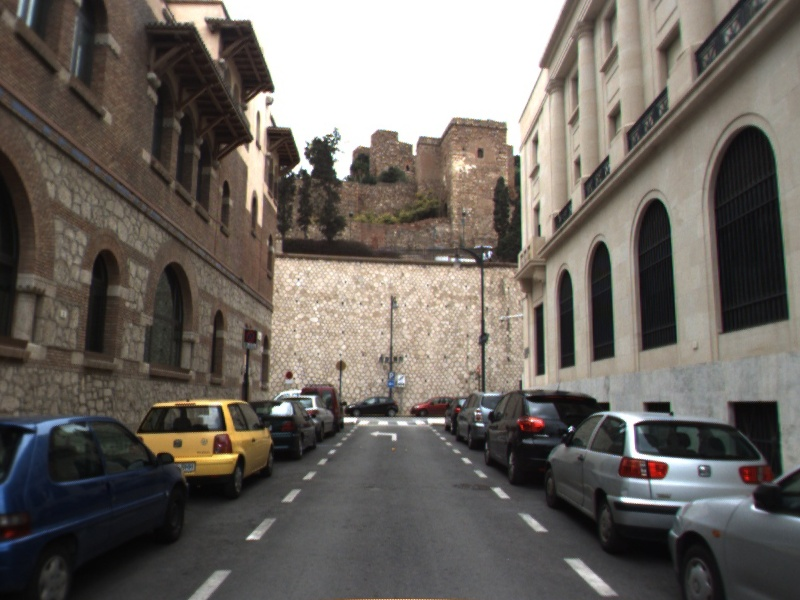LEFT: (368, 428, 399, 443)
